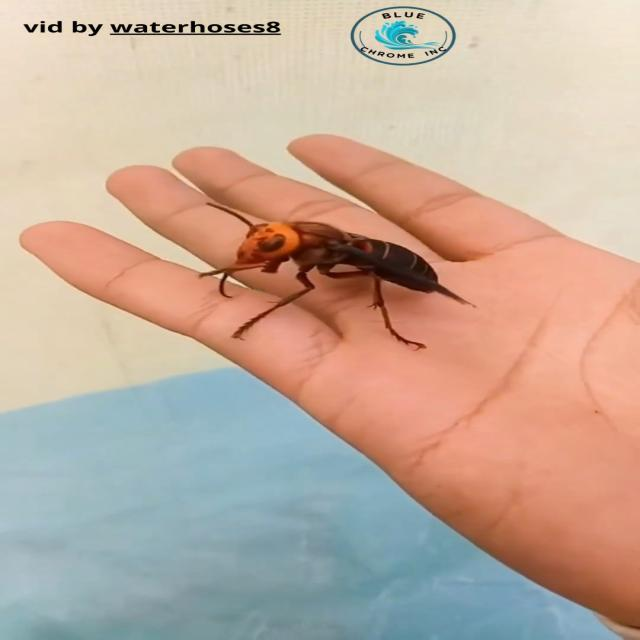Hornets: (192, 201, 478, 350)
